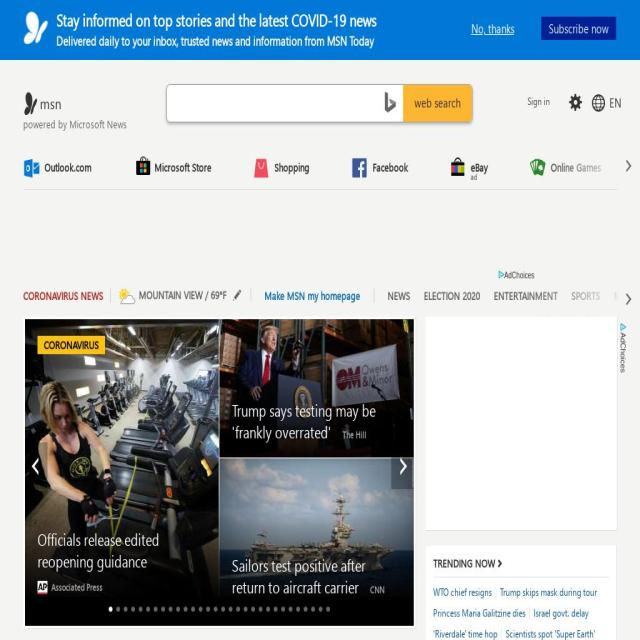button: (24, 319, 220, 597), (413, 319, 608, 597), (218, 458, 414, 598), (218, 320, 414, 458), (56, 8, 376, 51), (463, 0, 538, 78), (607, 319, 640, 458), (607, 458, 640, 597), (132, 149, 247, 186), (529, 149, 637, 186), (22, 149, 127, 186), (253, 149, 345, 186), (351, 149, 443, 186), (0, 59, 105, 89), (0, 59, 92, 89), (449, 149, 523, 186), (402, 85, 472, 122), (0, 59, 86, 89), (542, 17, 616, 40), (500, 626, 595, 640), (495, 585, 597, 598), (16, 90, 62, 117), (138, 288, 226, 302), (432, 606, 526, 619), (519, 86, 555, 115), (432, 626, 497, 640), (591, 86, 621, 116), (432, 585, 492, 598), (529, 606, 589, 619), (496, 271, 535, 282), (232, 288, 244, 304), (618, 322, 626, 341)
field: (173, 85, 378, 122)
heading: (432, 548, 610, 580), (264, 288, 360, 302), (154, 160, 211, 174), (43, 338, 99, 352), (550, 160, 601, 174), (44, 160, 91, 174), (274, 160, 309, 174), (372, 160, 407, 174), (432, 338, 464, 352), (470, 160, 488, 174)
iframe: (427, 319, 615, 528), (92, 194, 548, 268)
image: (24, 319, 219, 597), (413, 319, 608, 597), (218, 319, 414, 458), (218, 458, 414, 597), (607, 319, 640, 457), (607, 458, 640, 596), (617, 149, 640, 186), (24, 12, 48, 45), (117, 284, 136, 308), (449, 156, 466, 178), (529, 156, 546, 178), (382, 91, 398, 112), (37, 581, 47, 594), (426, 581, 436, 594), (123, 606, 128, 612), (138, 606, 143, 612), (153, 606, 158, 612), (168, 606, 173, 612), (183, 606, 188, 612), (198, 606, 203, 612), (213, 606, 218, 612), (228, 606, 233, 612), (243, 606, 248, 612), (258, 606, 263, 612), (273, 606, 278, 612), (288, 606, 293, 612), (303, 606, 308, 612), (318, 606, 323, 612), (116, 606, 120, 612), (131, 606, 135, 612), (146, 606, 150, 612), (161, 606, 165, 612), (176, 606, 180, 612), (191, 606, 195, 612), (206, 606, 210, 612), (221, 606, 225, 612), (236, 606, 240, 612), (251, 606, 255, 612), (266, 606, 270, 612), (281, 606, 285, 612), (296, 606, 300, 612), (311, 606, 315, 612), (326, 606, 330, 612)
link: (23, 288, 103, 302), (493, 288, 558, 302), (423, 288, 480, 302), (571, 288, 600, 302), (613, 288, 640, 302), (387, 288, 410, 302)
text: (56, 8, 376, 51), (37, 528, 207, 572), (426, 528, 596, 572), (56, 30, 376, 51), (231, 398, 376, 444), (231, 554, 366, 598), (138, 288, 211, 302), (519, 87, 555, 115), (620, 398, 640, 444), (620, 554, 640, 598), (69, 117, 127, 131), (22, 117, 70, 131), (51, 581, 102, 593), (40, 94, 62, 114), (439, 581, 469, 593), (342, 428, 366, 441), (210, 288, 226, 302), (370, 583, 384, 596), (618, 332, 626, 341), (504, 271, 511, 280), (470, 174, 477, 177)
